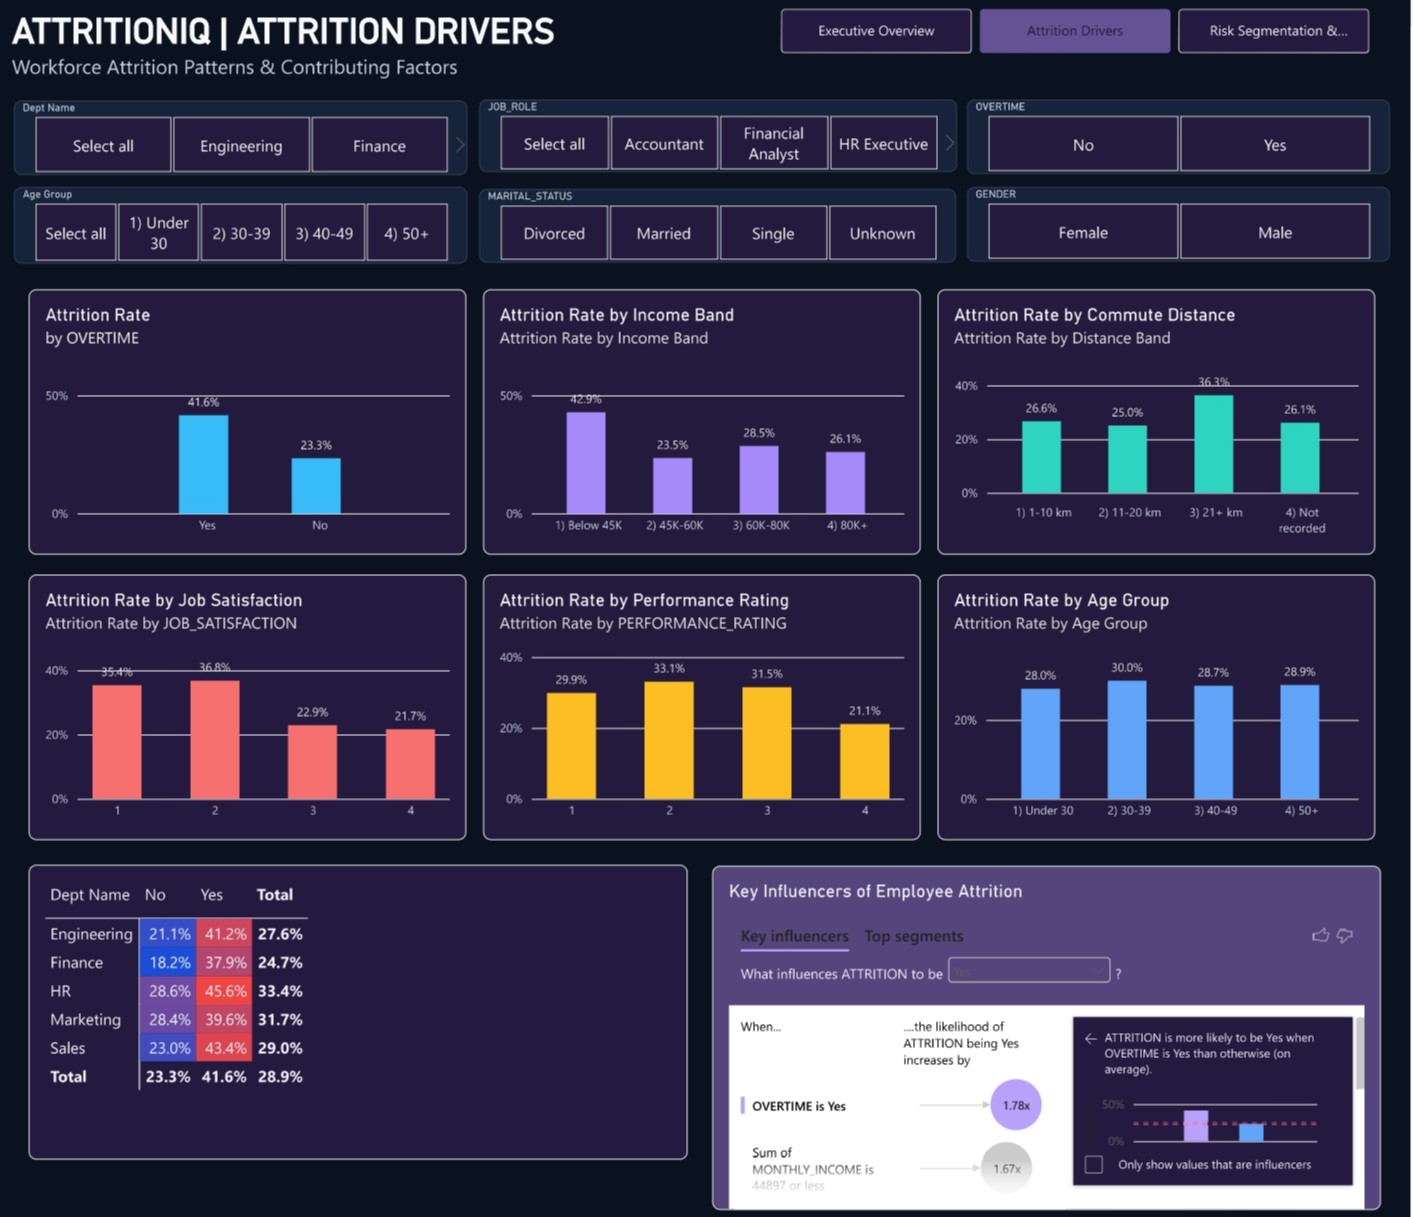

Layout of this report page (visuals, bound fields, positions):
{"tool":"powerbi","page":{"name":"Attrition Drivers","canvas":[1440,1250],"ordinal":1},"visuals":[{"type":"textbox","title":"ATTRITIONIQ | ATTRITION DRIVERS","box":[17.7,15.9,1401.4,79.7],"z":0},{"type":"slicer","fields":{"Values":["HR_ATTRITION_FINAL.Dept Name"]},"box":[20,107.5,461.2,76.2],"z":1},{"type":"slicer","fields":{"Values":["HR_ATTRITION_FINAL.JOB_ROLE"]},"box":[492.9,107.1,485.7,74.3],"z":2},{"type":"slicer","fields":{"Values":["HR_ATTRITION_FINAL.OVERTIME"]},"box":[988.6,107.1,430,75.7],"z":3},{"type":"slicer","fields":{"Values":["HR_ATTRITION_FINAL.Age Group"]},"box":[20,196.2,461.2,77.5],"z":4},{"type":"slicer","fields":{"Values":["HR_ATTRITION_FINAL.MARITAL_STATUS"]},"box":[492.5,197.5,485.7,75.7],"z":5},{"type":"slicer","fields":{"Values":["HR_ATTRITION_FINAL.GENDER"]},"box":[988.8,196.2,430,75.7],"z":6},{"type":"clusteredColumnChart","fields":{"Category":["HR_ATTRITION_FINAL.OVERTIME"],"Y":["_Measures.Attrition Rate"]},"box":[35,300,445,270],"z":7},{"type":"clusteredColumnChart","title":"Attrition Rate by Income Band","fields":{"Category":["HR_ATTRITION_FINAL.Income Band"],"Y":["_Measures.Attrition Rate"]},"box":[497,300,445,270],"z":8},{"type":"clusteredColumnChart","title":"Attrition Rate by Commute Distance","fields":{"Category":["HR_ATTRITION_FINAL.Distance Band"],"Y":["_Measures.Attrition Rate"]},"box":[959,300,445,270],"z":9},{"type":"clusteredColumnChart","title":"Attrition Rate by Job Satisfaction","fields":{"Category":["HR_ATTRITION_FINAL.JOB_SATISFACTION"],"Y":["_Measures.Attrition Rate"]},"box":[35,590,445,270],"z":10},{"type":"clusteredColumnChart","title":"Attrition Rate by Performance Rating","fields":{"Category":["HR_ATTRITION_FINAL.PERFORMANCE_RATING"],"Y":["_Measures.Attrition Rate"]},"box":[497,590,445,270],"z":11},{"type":"clusteredColumnChart","title":"Attrition Rate by Age Group","fields":{"Category":["HR_ATTRITION_FINAL.Age Group"],"Y":["_Measures.Attrition Rate"]},"box":[959,590,445,270],"z":12},{"type":"pivotTable","fields":{"Columns":["HR_ATTRITION_FINAL.OVERTIME"],"Rows":["HR_ATTRITION_FINAL.Dept Name"],"Values":["_Measures.Attrition Rate"]},"box":[35,885,670,300],"z":13},{"type":"keyDriversVisual","title":"Key Influencers of Employee Attrition","fields":{"ExplainBy":["HR_ATTRITION_FINAL.OVERTIME","Sum(HR_ATTRITION_FINAL.MONTHLY_INCOME)","Sum(HR_ATTRITION_FINAL.DISTANCE_FROM_HOME)","Sum(HR_ATTRITION_FINAL.YEARS_AT_COMPANY)","Sum(HR_ATTRITION_FINAL.JOB_SATISFACTION)","Sum(HR_ATTRITION_FINAL.PERFORMANCE_RATING)","HR_ATTRITION_FINAL.Dept Name","Sum(HR_ATTRITION_FINAL.AGE)"],"Target":["HR_ATTRITION_FINAL.ATTRITION"]},"box":[730,885.7,680,350],"z":14},{"type":"pageNavigator","box":[800,15,600,45],"z":15}]}

Visuals, with their boxes in screenshot pixels (x1, y1, x2, y2), scaled from the page's 1440x1250 canvas onto the 1414x1217 screenshot:
"ATTRITIONIQ | ATTRITION DRIVERS" textbox: <box>17,15,1393,93</box>
slicer - HR_ATTRITION_FINAL.Dept Name: <box>20,105,473,179</box>
slicer - HR_ATTRITION_FINAL.JOB_ROLE: <box>484,104,961,177</box>
slicer - HR_ATTRITION_FINAL.OVERTIME: <box>971,104,1393,178</box>
slicer - HR_ATTRITION_FINAL.Age Group: <box>20,191,473,266</box>
slicer - HR_ATTRITION_FINAL.MARITAL_STATUS: <box>484,192,961,266</box>
slicer - HR_ATTRITION_FINAL.GENDER: <box>971,191,1393,265</box>
clusteredColumnChart - HR_ATTRITION_FINAL.OVERTIME x _Measures.Attrition Rate: <box>34,292,471,555</box>
"Attrition Rate by Income Band" clusteredColumnChart: <box>488,292,925,555</box>
"Attrition Rate by Commute Distance" clusteredColumnChart: <box>942,292,1379,555</box>
"Attrition Rate by Job Satisfaction" clusteredColumnChart: <box>34,574,471,837</box>
"Attrition Rate by Performance Rating" clusteredColumnChart: <box>488,574,925,837</box>
"Attrition Rate by Age Group" clusteredColumnChart: <box>942,574,1379,837</box>
pivotTable - HR_ATTRITION_FINAL.OVERTIME x HR_ATTRITION_FINAL.Dept Name: <box>34,862,692,1154</box>
"Key Influencers of Employee Attrition" keyDriversVisual: <box>717,862,1385,1203</box>
pageNavigator: <box>786,15,1375,58</box>
